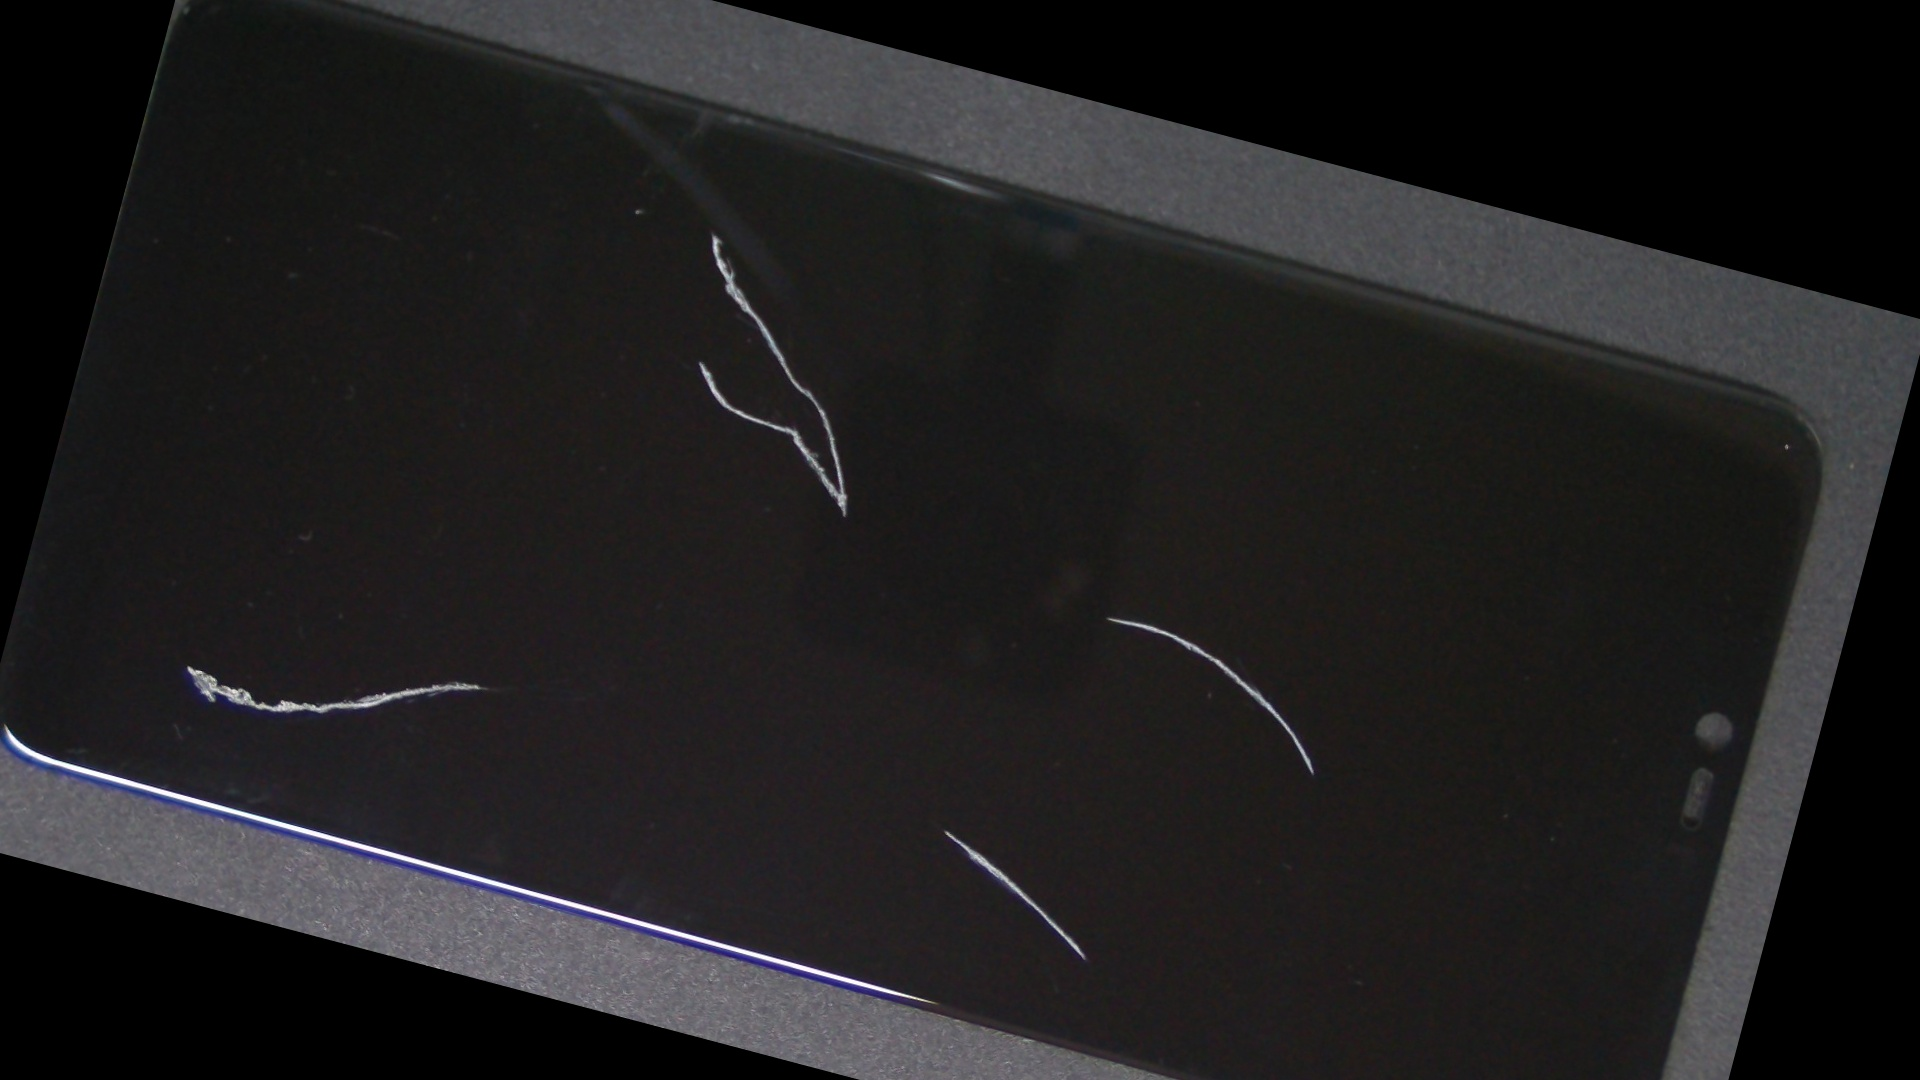oil: (558, 247, 1754, 1005), (415, 348, 1501, 1080), (181, 276, 798, 1019), (404, 46, 1019, 414)
